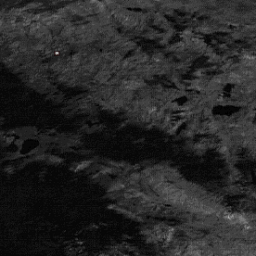Target: (53, 48, 61, 58)
